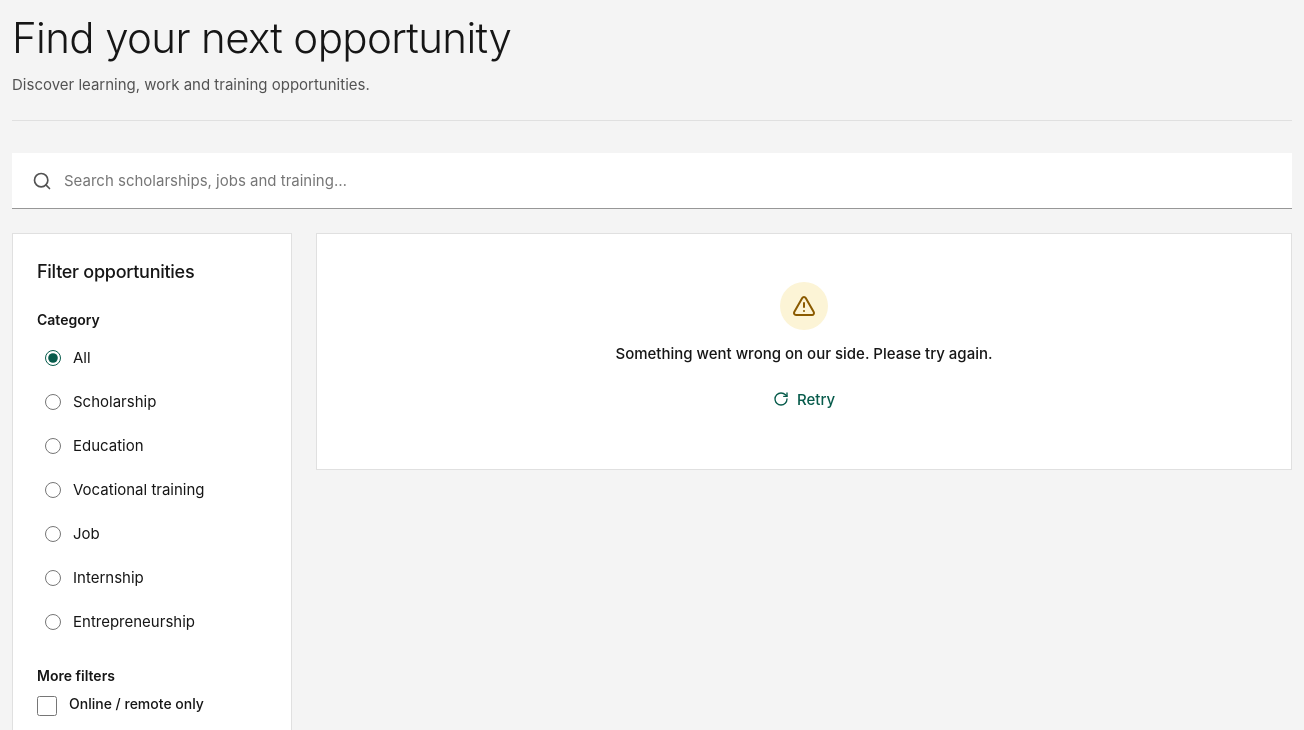
Test: OpportunitiesPage › shows an error with retry when the API fails
Check: the message shows "Something went wrong on our side", box [615,344,992,363]
Click the button "Retry" at {"x": 804, "y": 399}, box [757,377,851,421]
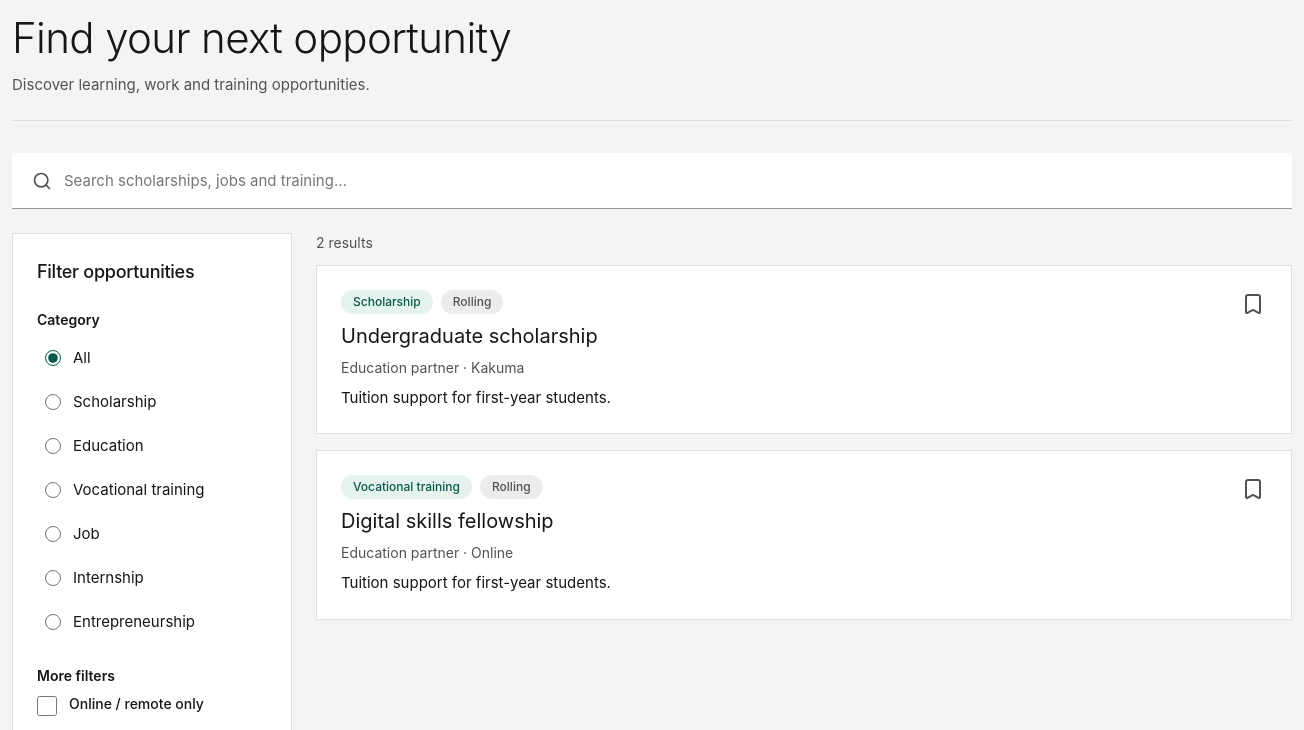
Check: the link "Digital skills fellowship" is shown, box [341,509,554,533]
